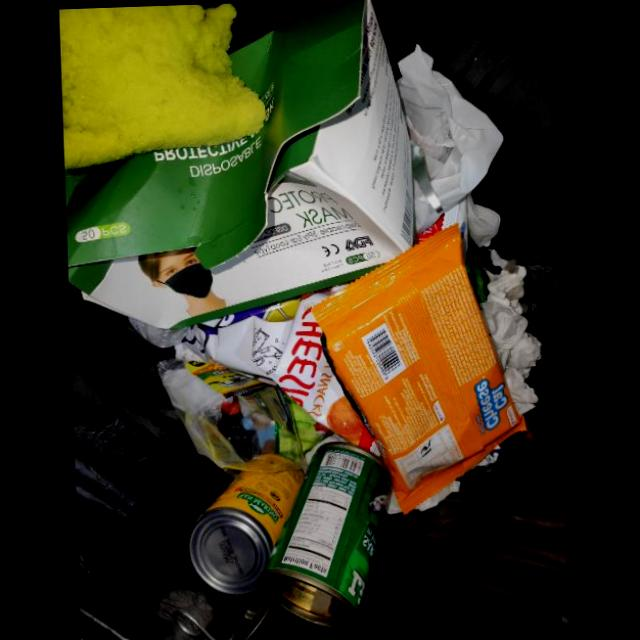bao_bi_thuc_pham: (311, 224, 525, 515), (182, 288, 382, 458)
carton: (63, 0, 414, 328)
giay: (479, 249, 541, 415)
nhom: (226, 442, 389, 640), (188, 453, 303, 595)
